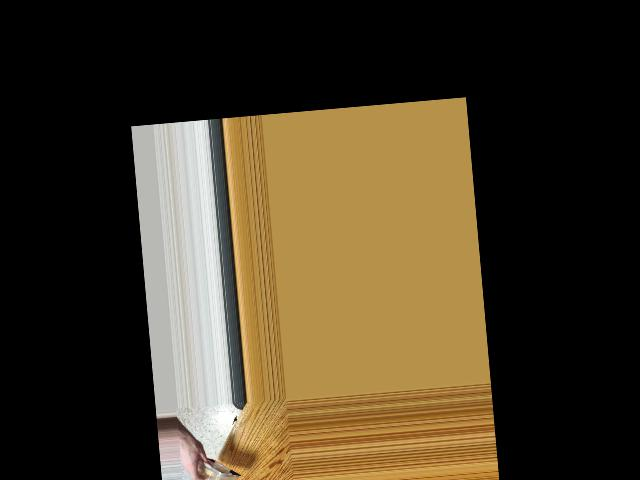cheese: (185, 439, 232, 480)
